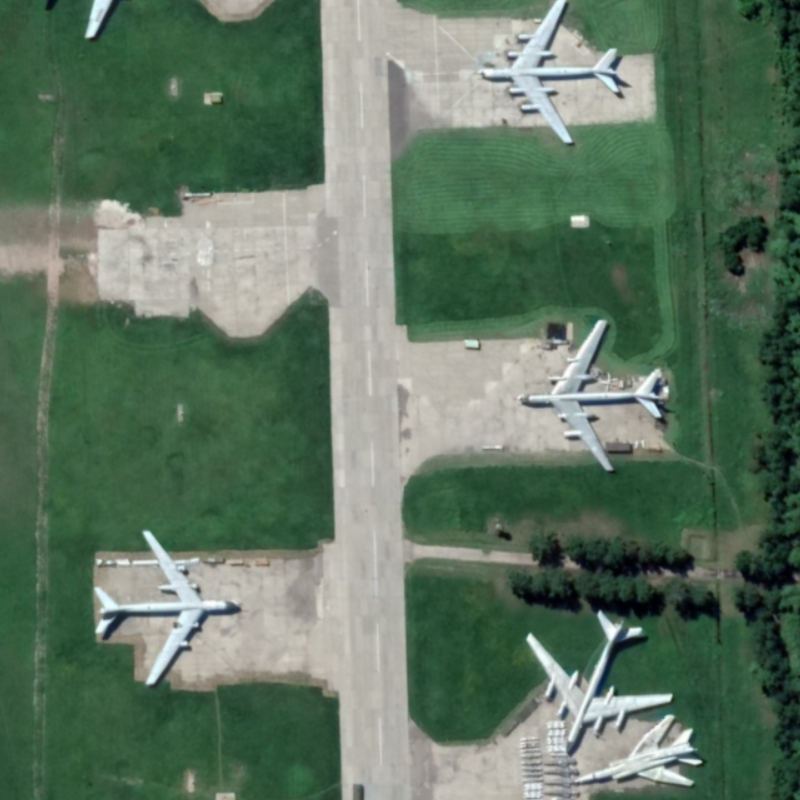A12: (570, 712, 705, 789)
A17: (516, 317, 673, 474), (91, 528, 245, 688), (522, 607, 675, 755), (478, 1, 623, 146)
